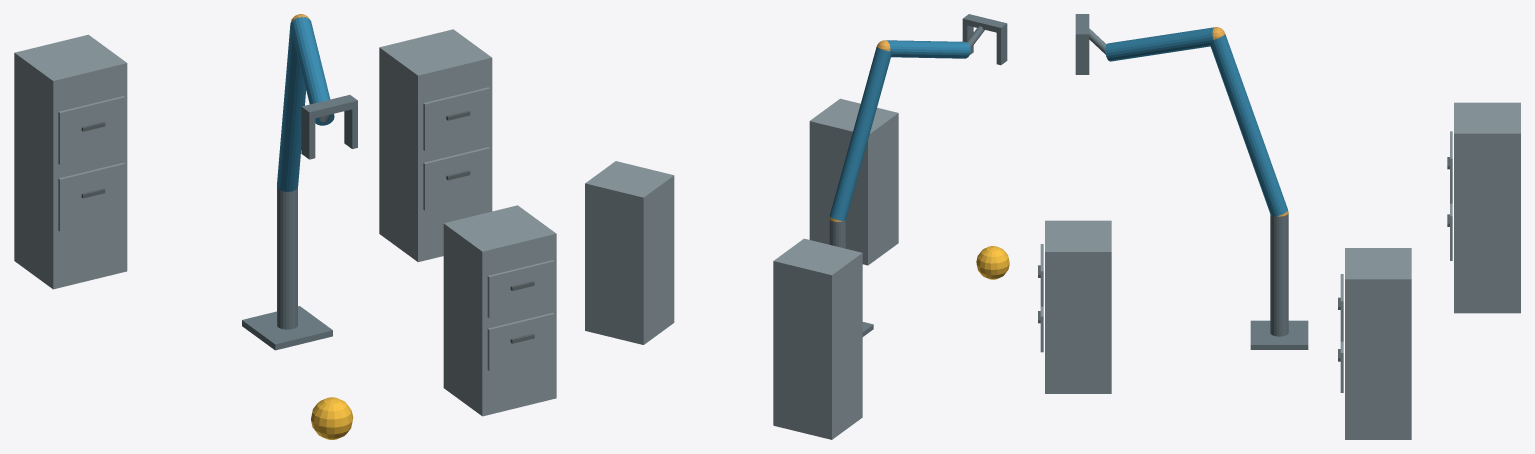
3 views of the same model, side by side, from view 1: azimuth 30°, elevation 25°; view 2: azimuth 150°, elevation 25°; view 3: azimuth 270°, elevation 25° (orthographic). The views are drawn at different scales.
Parts seen in each view (by area): view 1: cabinet_3 body, cabinet_2 body, cabinet_1 body, cabinet_3 drawer front, cabinet_3 drawer front.001, cabinet_2 drawer front.001, cabinet_2 drawer front, fixed post, moving link 1, cabinet_1 drawer front.001, cabinet_1 drawer front, pedestal (+5 smaller); view 2: cabinet_3 body, cabinet_2 body, cabinet_1 body, moving link 1, moving link 2, ball ball_1, gripper bridge, fixed post; view 3: cabinet_3 body, cabinet_2 body, cabinet_1 body, moving link 1, fixed post, moving link 2, pedestal, gripper finger 1.
Part boxes in pixels (box(x1,y1,x2,y2)): cabinet_3 body: box(14, 34, 127, 289); cabinet_2 body: box(379, 29, 492, 262); cabinet_1 body: box(443, 205, 556, 416); cabinet_3 drawer front: box(58, 162, 125, 231); cabinet_3 drawer front.001: box(58, 96, 125, 164); cabinet_2 drawer front.001: box(423, 87, 489, 150); cabinet_2 drawer front: box(423, 147, 489, 210); fixed post: box(277, 187, 297, 329); moving link 1: box(277, 22, 306, 191); cabinet_1 drawer front.001: box(487, 260, 554, 318); cabinet_1 drawer front: box(487, 313, 554, 370); pedestal: box(242, 306, 332, 350); cabinet_3 body: box(773, 238, 862, 439); cabinet_2 body: box(585, 161, 674, 344); cabinet_1 body: box(809, 98, 898, 265); moving link 1: box(829, 47, 891, 220); moving link 2: box(886, 40, 970, 58); ball ball_1: box(976, 246, 1009, 279); gripper bridge: box(962, 14, 1007, 33); fixed post: box(829, 219, 845, 248); cabinet_3 body: box(1454, 102, 1520, 313); cabinet_2 body: box(1345, 248, 1411, 439); cabinet_1 body: box(1045, 220, 1111, 393); moving link 1: box(1210, 34, 1287, 216); fixed post: box(1270, 213, 1288, 336); moving link 2: box(1105, 27, 1213, 61); pedestal: box(1250, 320, 1308, 349); gripper finger 1: box(1075, 40, 1089, 74).
Bounding box in the file's own units: 1.62 × 1.44 × 2.1.
